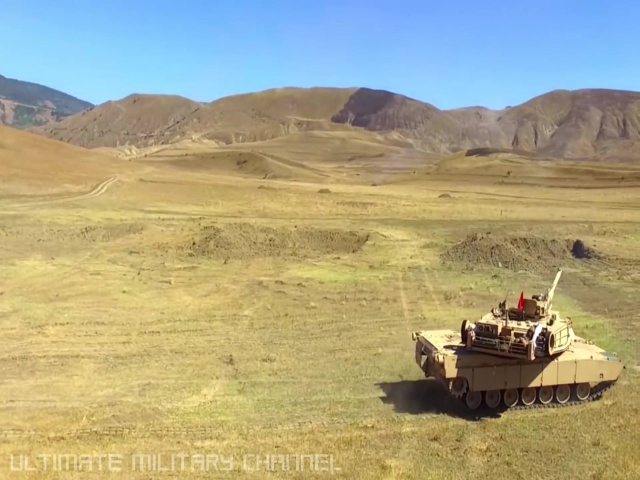vehicle: (412, 300, 624, 415)
